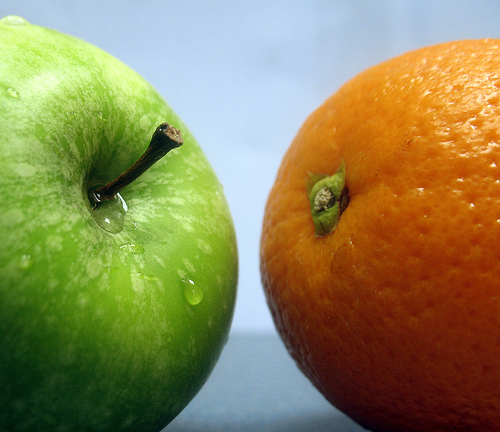apple: (0, 22, 239, 430)
